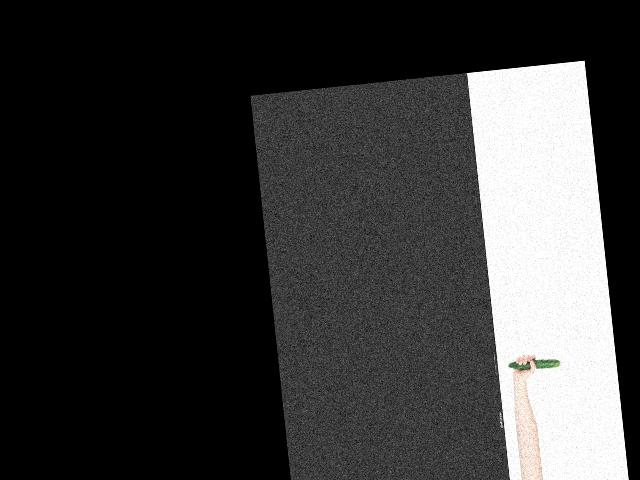cucumber: (506, 356, 560, 372)
